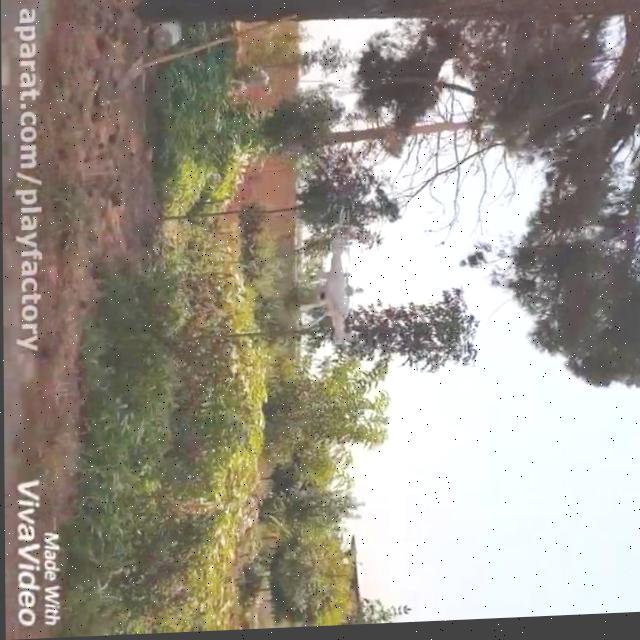drone: (296, 216, 360, 358)
